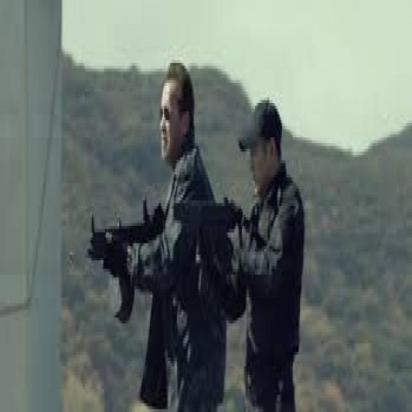Gun: (88, 202, 168, 327), (177, 181, 246, 308)
